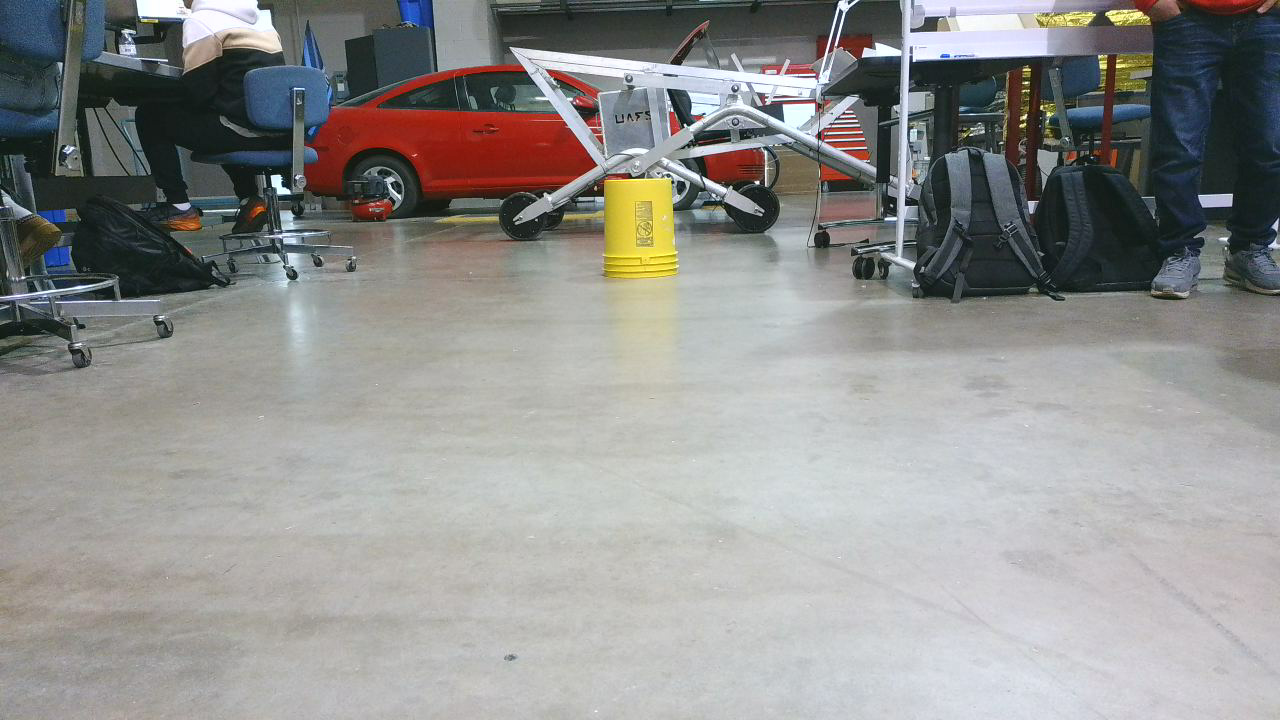blue_bucket: (610, 183, 686, 283)
